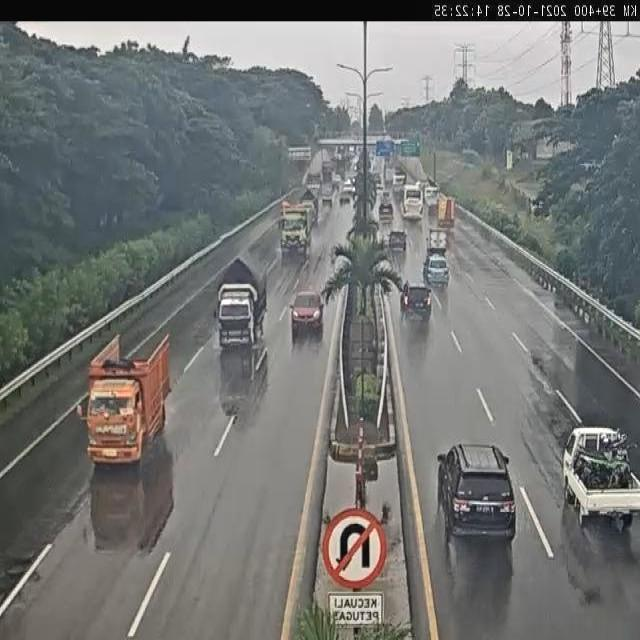Bus: (402, 182, 424, 221)
Car: (437, 443, 515, 542), (290, 291, 324, 341), (399, 282, 433, 328), (424, 254, 449, 288), (387, 230, 407, 256), (322, 192, 332, 210), (332, 172, 342, 189)
Truck: (82, 330, 170, 467), (561, 426, 640, 530), (214, 257, 266, 352), (279, 201, 314, 264), (298, 187, 318, 225), (427, 227, 449, 257), (438, 196, 456, 228), (378, 198, 394, 224), (424, 184, 440, 210), (393, 171, 407, 196), (322, 160, 334, 182)
